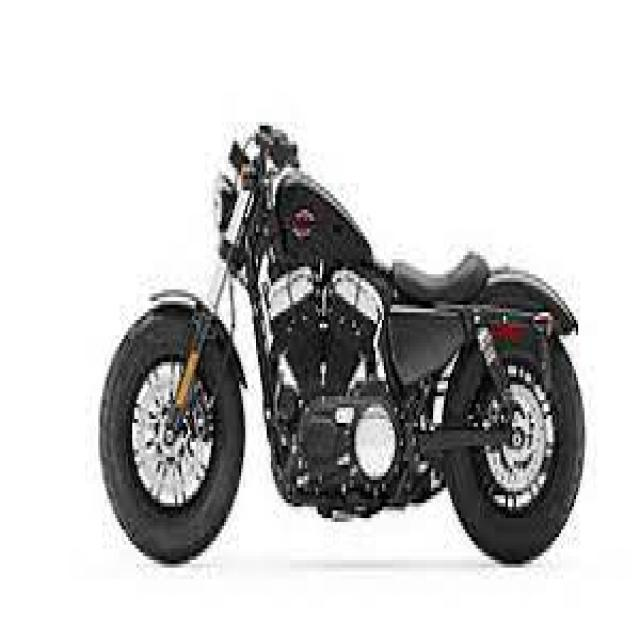Bike: (98, 120, 586, 568)
